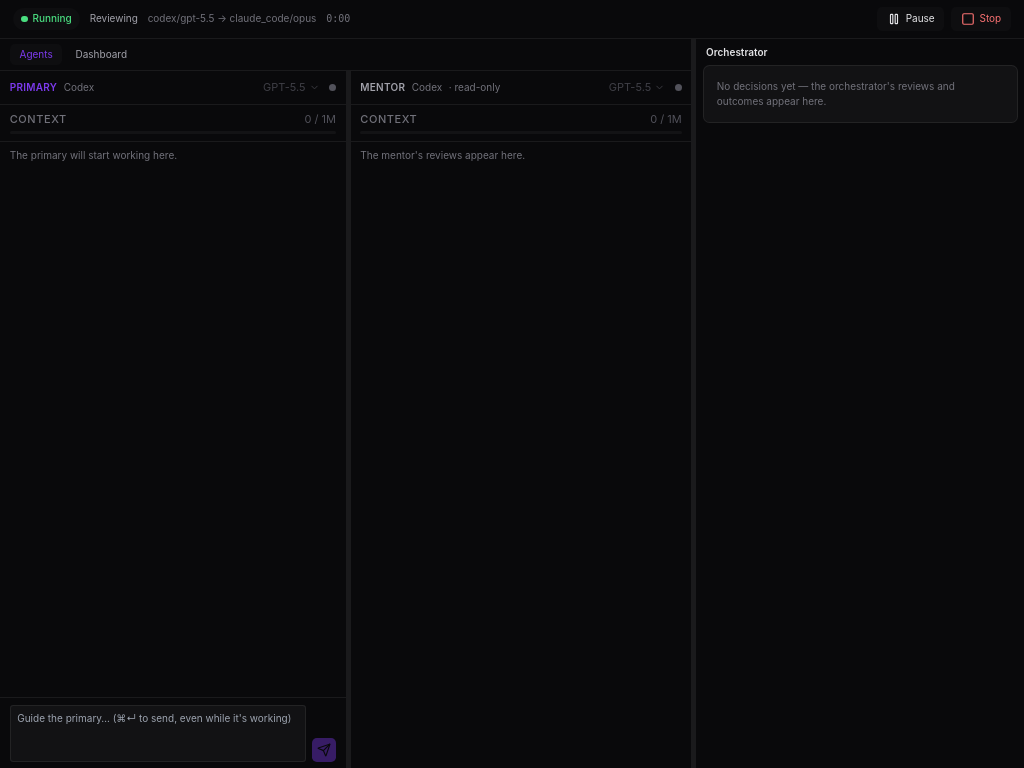
Scenario: DuoWorkspace › switches to the Dashboard tab
Click the button "Dashboard" at (101, 54), box top-left (66, 44), bottom-right (137, 65)
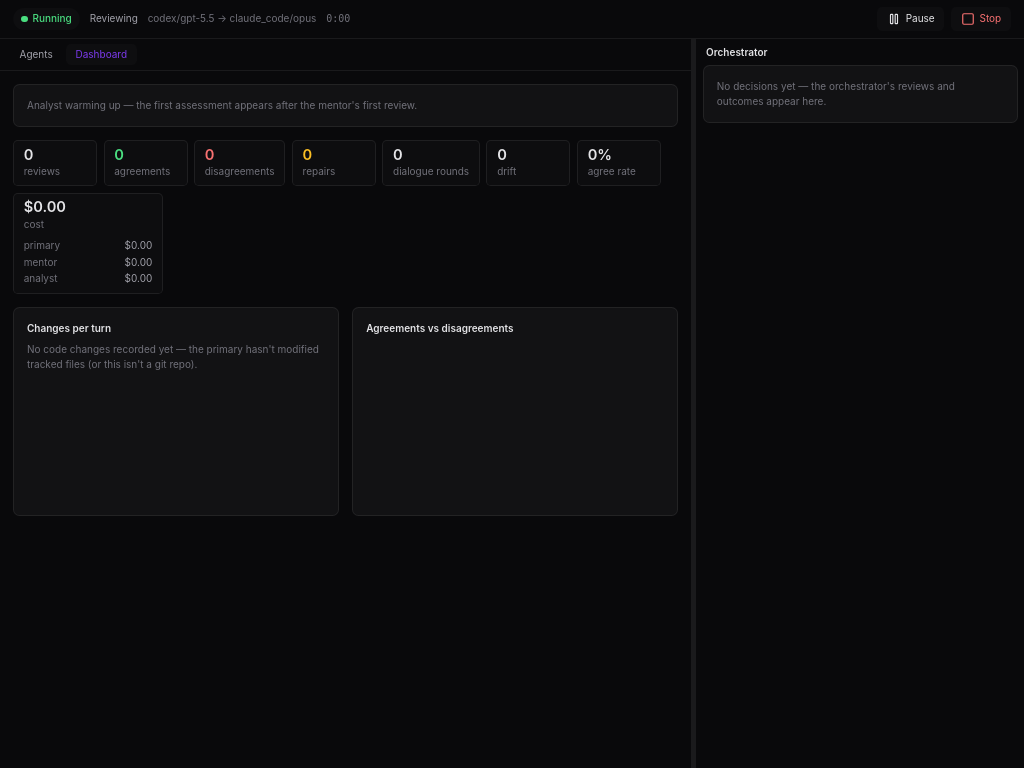
Check: the text "Analyst warming up" is shown, box top-left (27, 99), bottom-right (417, 111)
